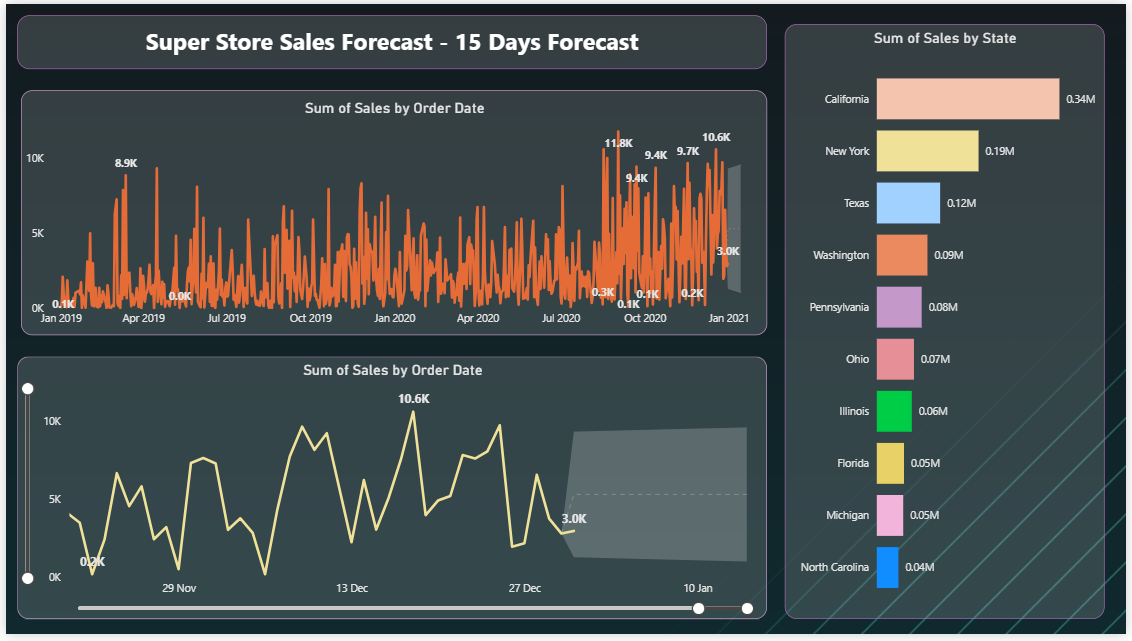

Layout of this report page (visuals, bound fields, positions):
{"tool":"powerbi","page":{"name":"Page 2","canvas":[1280,720],"ordinal":1},"visuals":[{"type":"lineChart","fields":{"Y":["Sum(SuperStore_Sales_Dataset.Sales)"],"Category":["SuperStore_Sales_Dataset.Order Date"]},"box":[17.1,98.6,852.9,280],"z":0},{"type":"lineChart","fields":{"Y":["Sum(SuperStore_Sales_Dataset.Sales)"],"Category":["SuperStore_Sales_Dataset.Order Date"]},"box":[12.9,402.9,857.1,300],"z":1000},{"type":"clusteredBarChart","fields":{"Y":["Sum(SuperStore_Sales_Dataset.Sales)"],"Category":["SuperStore_Sales_Dataset.State"]},"box":[890,22.9,365.7,680],"z":1001},{"type":"textbox","box":[12.9,12.9,857.1,61.4],"z":1002}]}

Visuals, with their boxes in screenshot pixels (x1, y1, x2, y2), scaled from the page's 1280x720 canvas onto the 1132x641 screenshot:
lineChart - Sum(SuperStore_Sales_Dataset.Sales) x SuperStore_Sales_Dataset.Order Date: Rect(15, 88, 769, 337)
lineChart - Sum(SuperStore_Sales_Dataset.Sales) x SuperStore_Sales_Dataset.Order Date: Rect(11, 359, 769, 626)
clusteredBarChart - Sum(SuperStore_Sales_Dataset.Sales) x SuperStore_Sales_Dataset.State: Rect(787, 20, 1111, 626)
textbox: Rect(11, 11, 769, 66)
